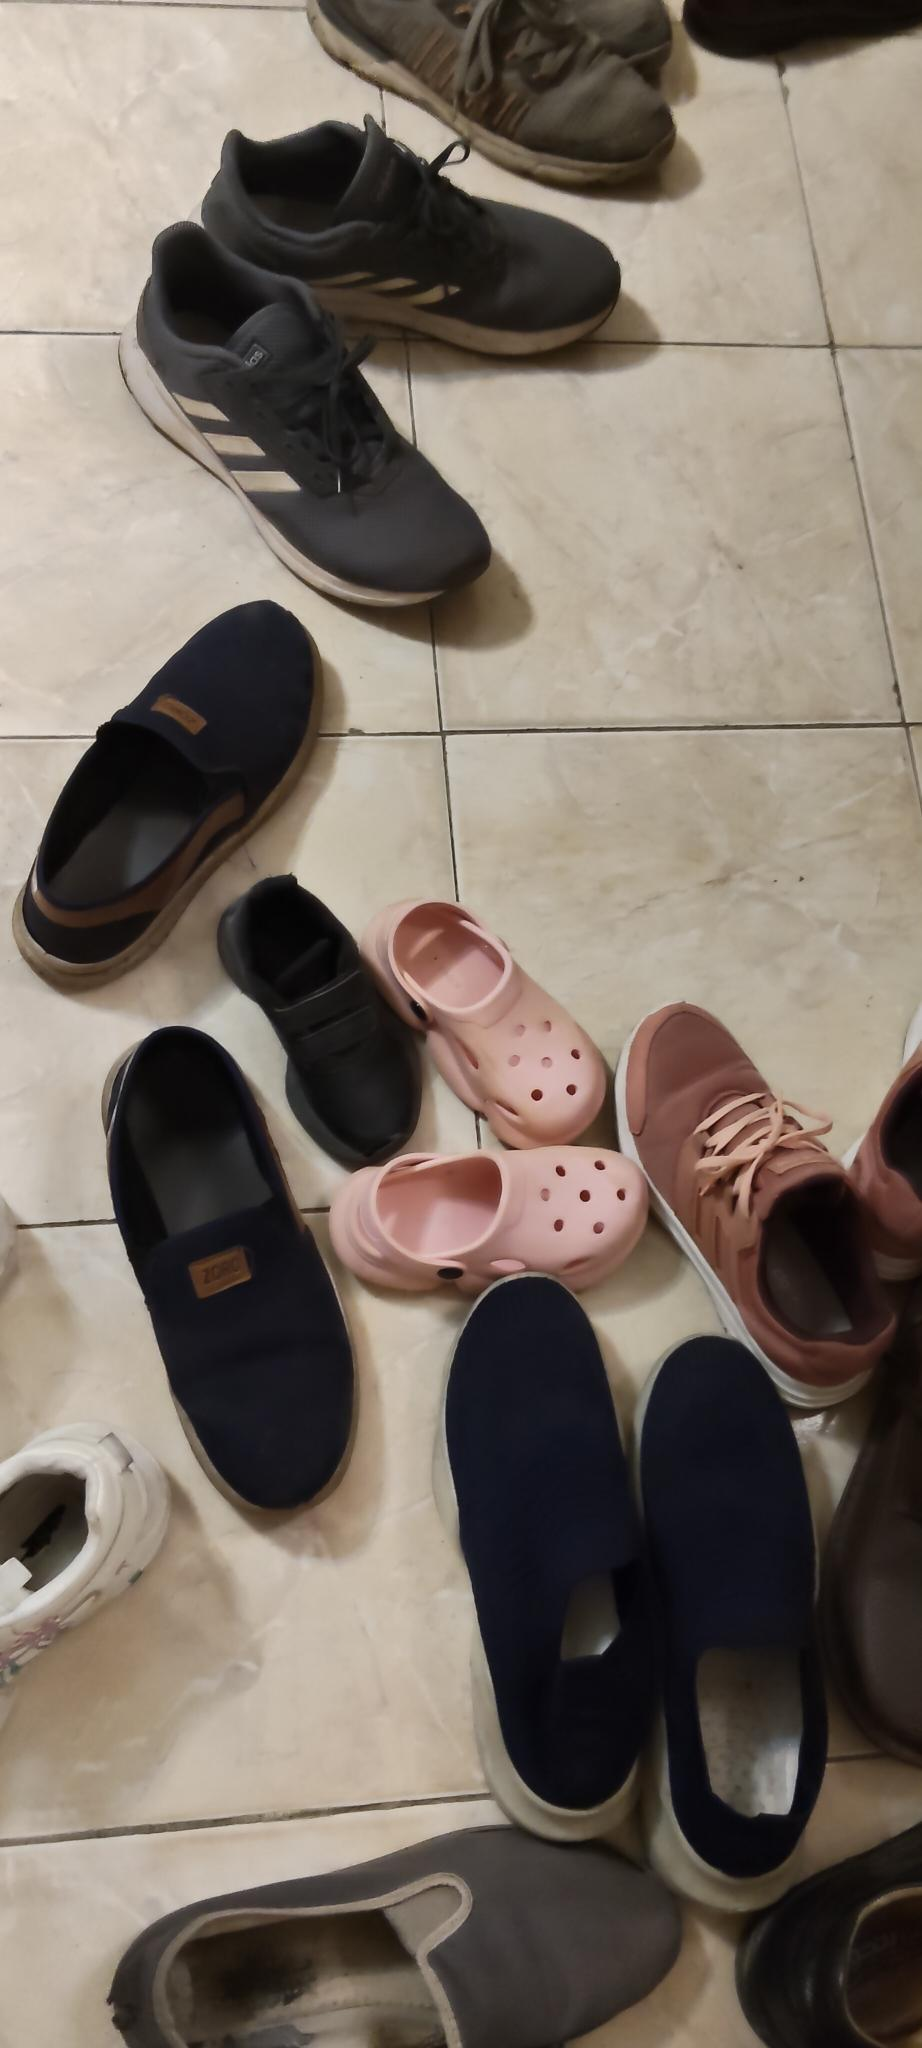Shoes: (120, 222, 495, 609), (108, 1821, 685, 2048), (102, 1026, 355, 1516), (15, 599, 325, 991), (445, 1269, 653, 1836), (613, 1002, 902, 1410), (645, 1336, 832, 1916), (203, 112, 622, 351), (306, 0, 680, 189), (369, 896, 612, 1151), (217, 872, 422, 1171), (330, 1145, 651, 1294), (0, 1423, 172, 1676), (818, 1360, 922, 1766), (738, 1819, 922, 2048), (840, 1007, 922, 1251)
